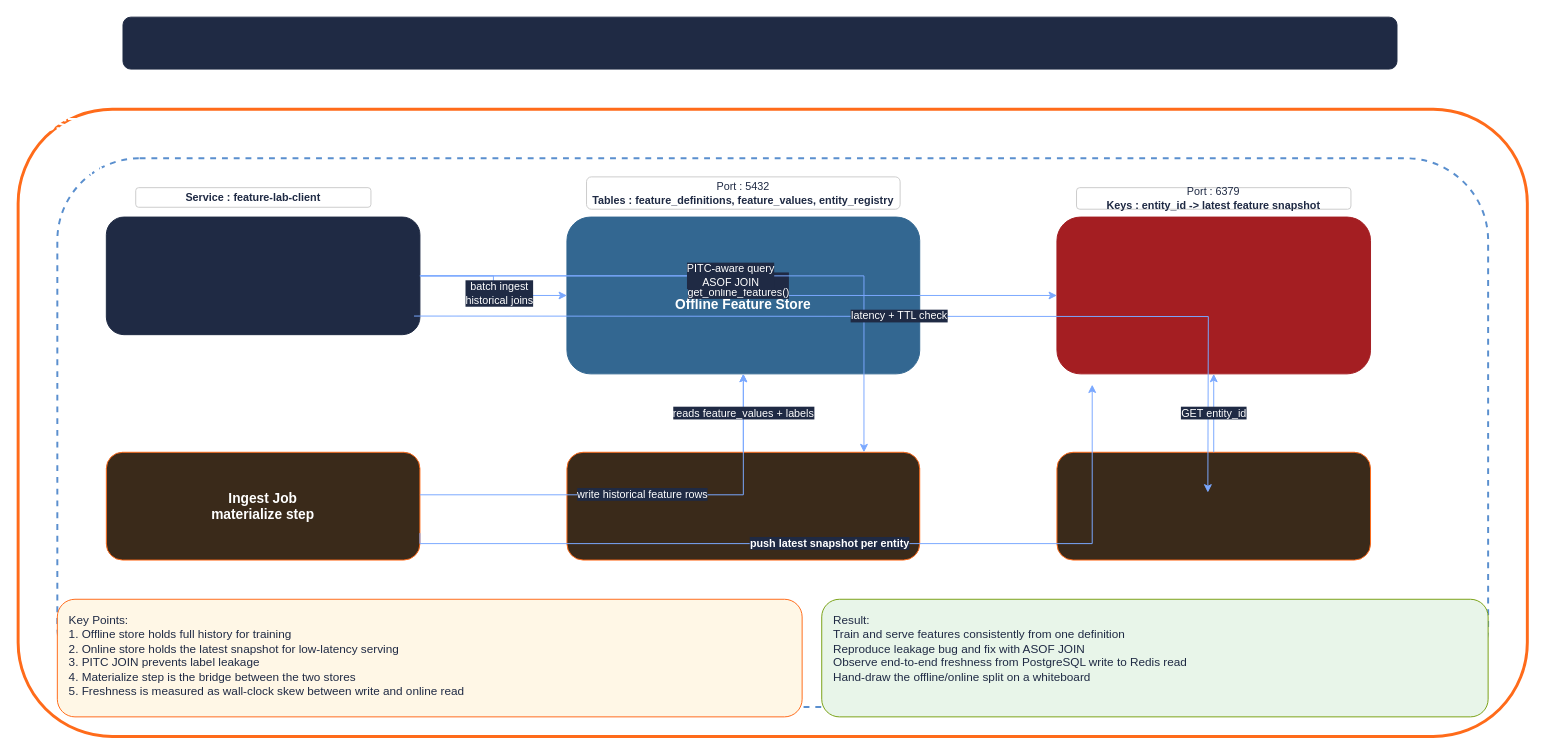
The diagram is 1545 pixels wide and 755 high, and some of its shapes have lost their labels. The shapes that lost their labels are listed below. From the top down, each one's centre as x and y in pixels, then its label:
At point 759,42: "Lab 7.1: Feature Store Concepts".
At point 262,275: "Python Client (whiteboard driver) psycopg2 + redis-py".
At point 1213,295: "Redis Online Feature Store".
At point 743,505: "Point-in-Time Join ASOF JOIN labels to features".
At point 1213,505: "Freshness Check online lookup latency + staleness".
